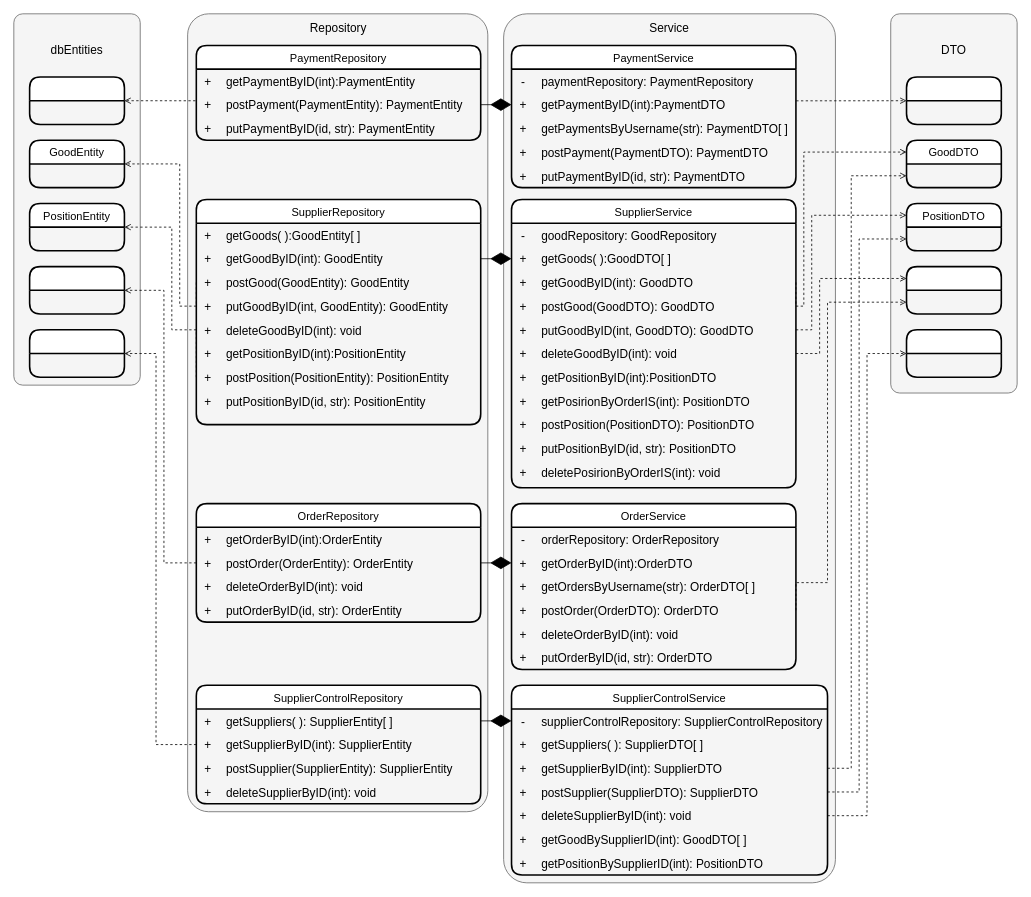
Image size: 1031x897. Some labels were removed from this diagram. The shapes that lost their labels are listed below. From the top down, each one's centre as x and y in pixels, then its label:
At point 76,100: "PaymentEntity".
At point 953,100: "PaymentDTO".
At point 76,289: "OrderEntity".
At point 953,289: "OrderDTO".
At point 76,353: "SupplierEntity".
At point 953,353: "SupplierDTO".
